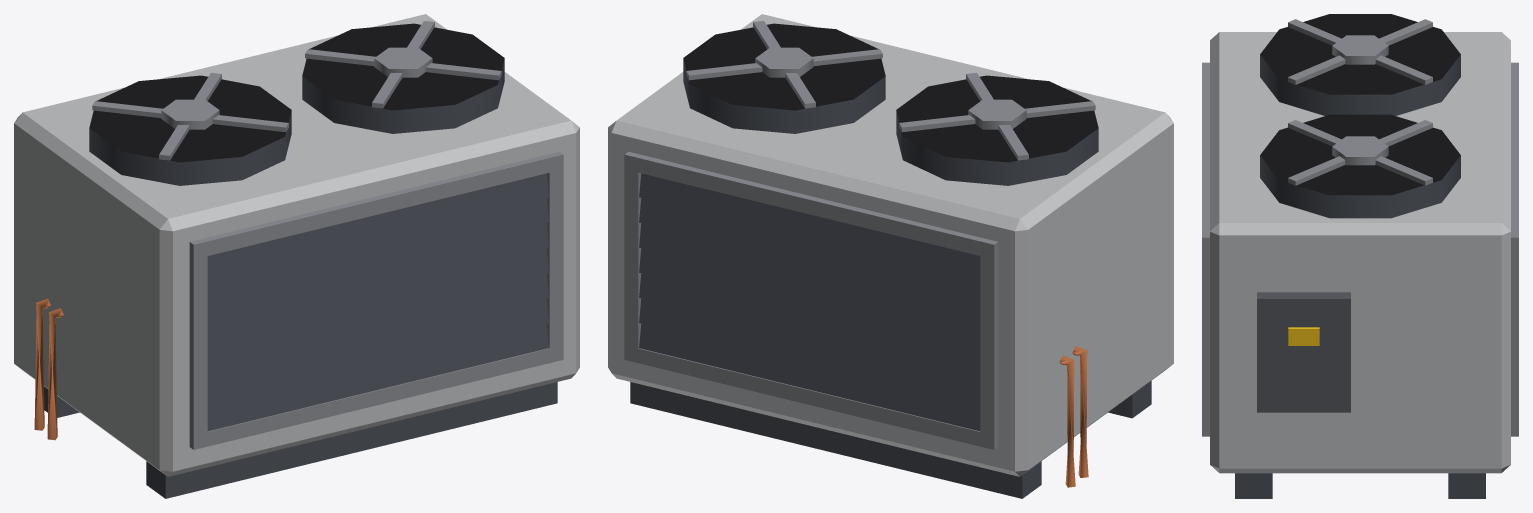
Rendered from roof_ac.glb.
3 renders of one model, left to right at view 1: azimuth 30°, elevation 25°; view 2: azimuth 150°, elevation 25°; view 3: azimuth 270°, elevation 25°, orthographic. The views are drawn at different scales.
Visible parts, largest first — view 1: roof_ac__mesh; view 2: roof_ac__mesh; view 3: roof_ac__mesh.
Part boxes in pixels (<box>): roof_ac__mesh: <box>14,14,579,498</box>; roof_ac__mesh: <box>608,14,1173,498</box>; roof_ac__mesh: <box>1202,14,1518,498</box>.
Size of the model in its own units: 1.61 by 1.09 by 1.01.
1 material, 1 textured.
